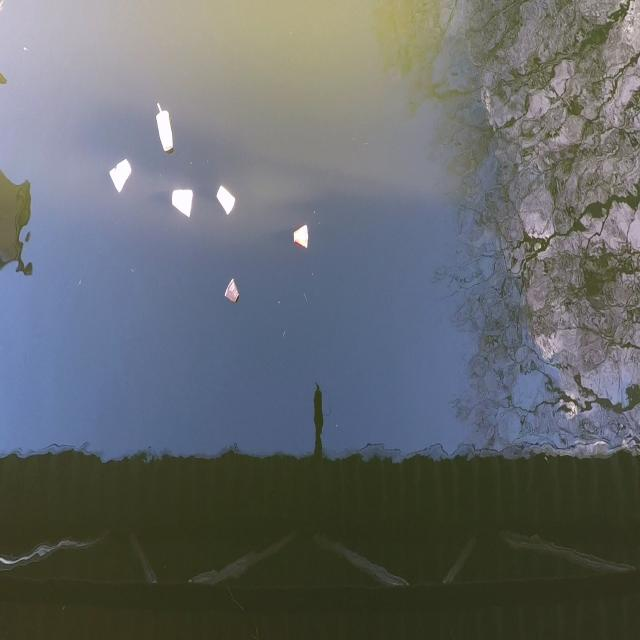Non plastique: (154, 94, 180, 161), (108, 155, 135, 196), (168, 182, 195, 221), (214, 178, 237, 217), (289, 218, 313, 254), (218, 276, 240, 309)
